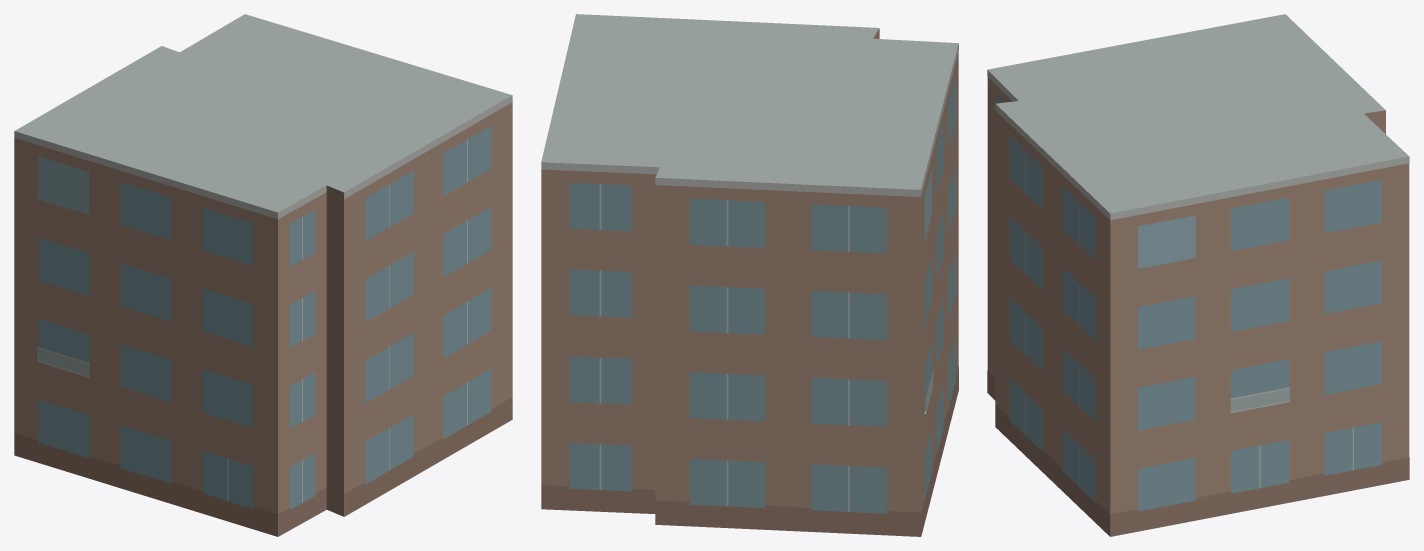
Rendered from survey-upis-32621510.glb.
3 views of the same model, side by side, from view 1: azimuth 30°, elevation 25°; view 2: azimuth 150°, elevation 25°; view 3: azimuth 270°, elevation 25° (orthographic). The views are drawn at different scales.
Parts seen in each view (by area): view 1: survey-upis-32621510.tmp; view 2: survey-upis-32621510.tmp; view 3: survey-upis-32621510.tmp.
Part boxes in pixels (x1,y1,x2,y2): survey-upis-32621510.tmp: [14, 14, 512, 536]; survey-upis-32621510.tmp: [541, 14, 958, 536]; survey-upis-32621510.tmp: [987, 14, 1409, 536].
Size of the model in its own units: 15.51 by 11.7 by 13.85.
